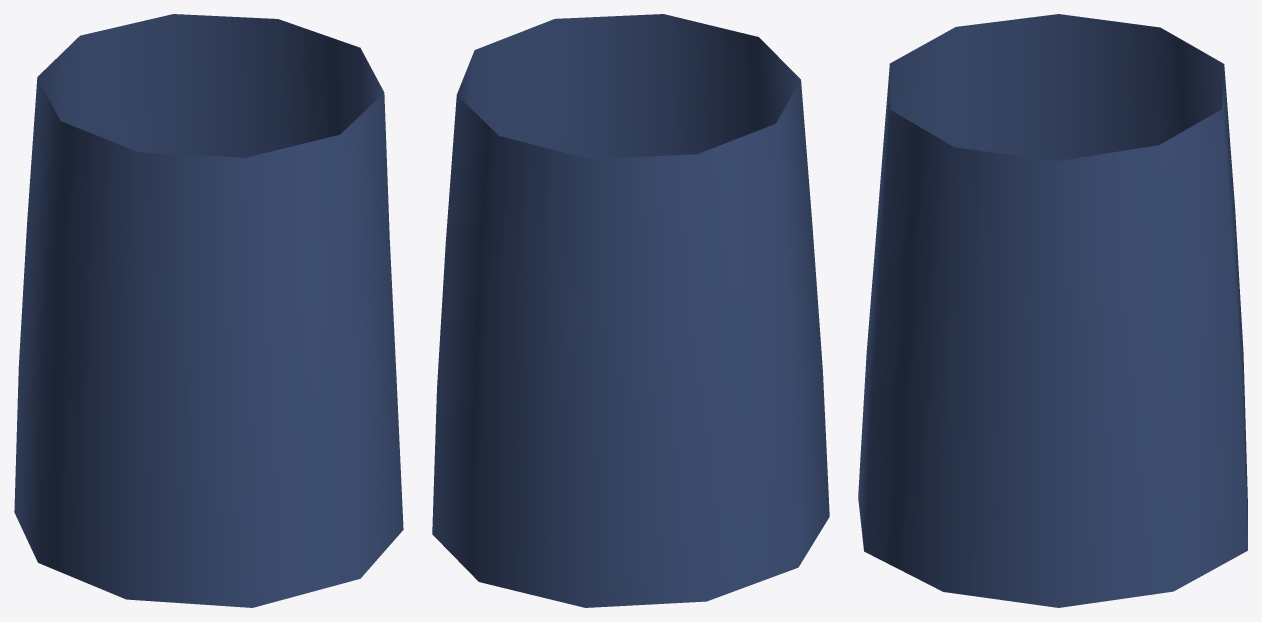
Rendered from spectre_armor_bracer.L.glb.
3 views of the same model, side by side, from view 1: azimuth 30°, elevation 25°; view 2: azimuth 150°, elevation 25°; view 3: azimuth 270°, elevation 25° (orthographic).
Visible parts, largest first — view 1: spectre_armor_bracer.L; view 2: spectre_armor_bracer.L; view 3: spectre_armor_bracer.L.
Part boxes in pixels (x1=…): spectre_armor_bracer.L: x1=14, y1=14, x2=403, y2=607; spectre_armor_bracer.L: x1=432, y1=14, x2=829, y2=607; spectre_armor_bracer.L: x1=858, y1=14, x2=1247, y2=607.
Bounding box in the file's own units: 0.1277 × 0.1562 × 0.126.
